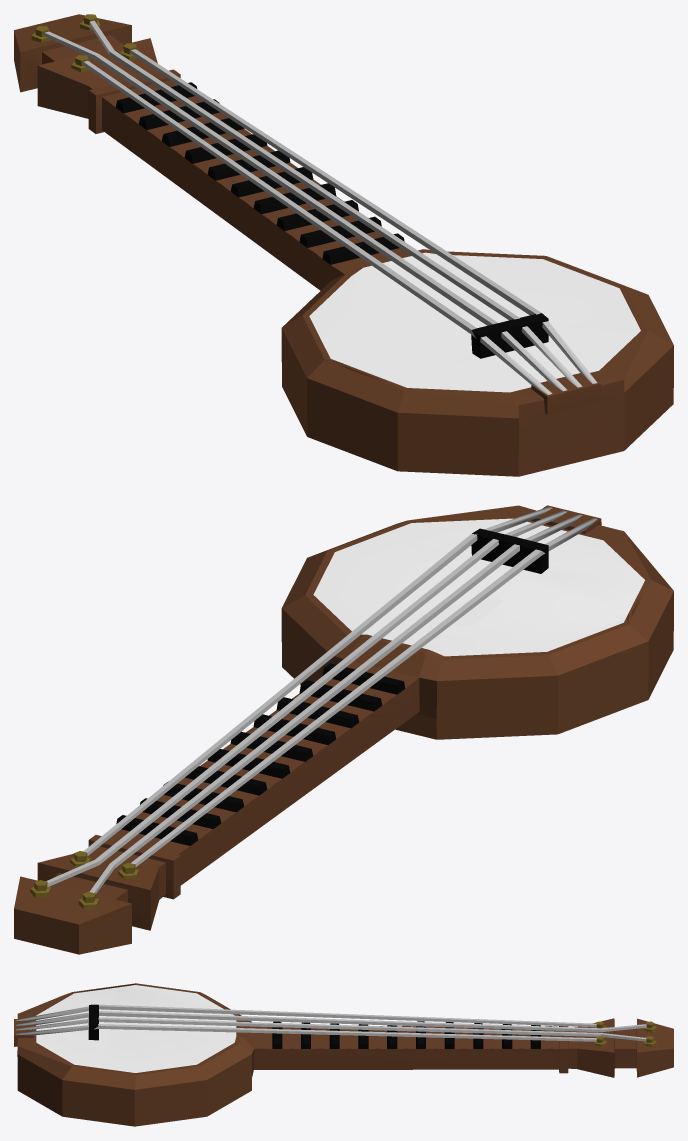
File: Banjo Overlay.obj
The picture shows the model from 3 angles, top to bottom: view 1: azimuth 30°, elevation 25°; view 2: azimuth 150°, elevation 25°; view 3: azimuth 270°, elevation 25°; orthographic projection. The views are drawn at different scales.
Visible parts, largest first — view 1: Banjo_Overlay; view 2: Banjo_Overlay; view 3: Banjo_Overlay.
Boxes of the visible parts, x1,y1,x2,y2 form: Banjo_Overlay: (14,14,673,476); Banjo_Overlay: (14,505,673,954); Banjo_Overlay: (14,983,673,1126).
Size of the model in its own units: 0.2593 by 0.0691 by 0.6943.
